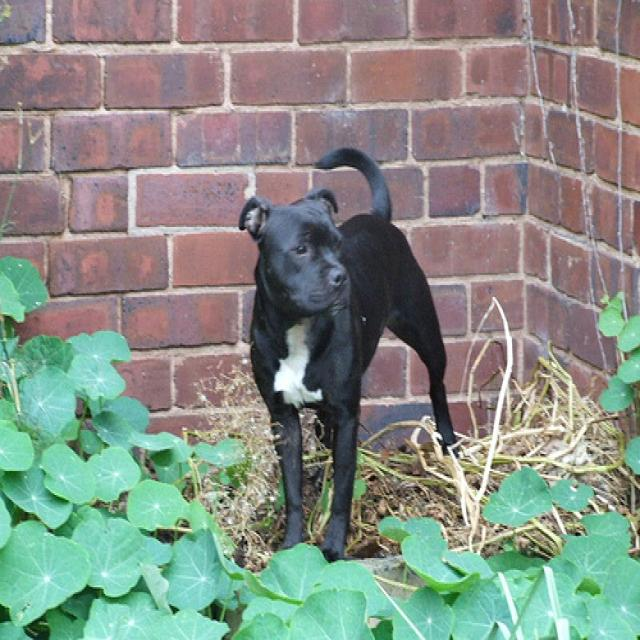dog-staffordshire_bull_terrier: (234, 138, 460, 555)
